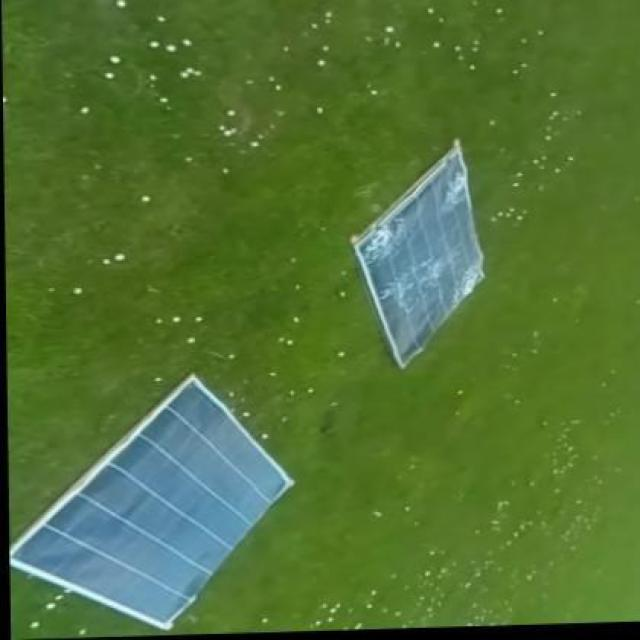cracked: (350, 142, 496, 375)
